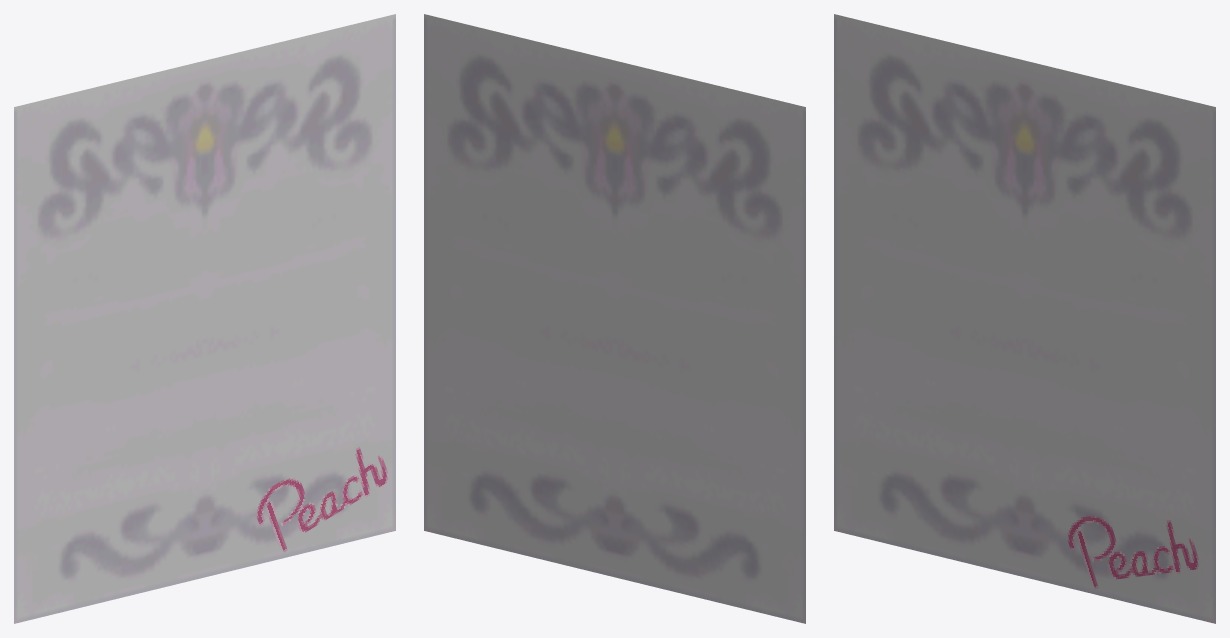
The model's file is peach_letter_US.glb.
The picture shows the model from 3 angles, left to right: view 1: azimuth 30°, elevation 25°; view 2: azimuth 150°, elevation 25°; view 3: azimuth 330°, elevation 25°; orthographic projection.
Visible parts, largest first — view 1: peach_letter_US; view 2: peach_letter_US; view 3: peach_letter_US.
Boxes of the visible parts, box(x1,y1,x2,y2) form: peach_letter_US: box(14, 14, 395, 623); peach_letter_US: box(424, 14, 805, 623); peach_letter_US: box(834, 14, 1215, 623).
Size of the model in its own units: 12.5 by 16.17 by 0.2573.
2 materials, 2 textured.
